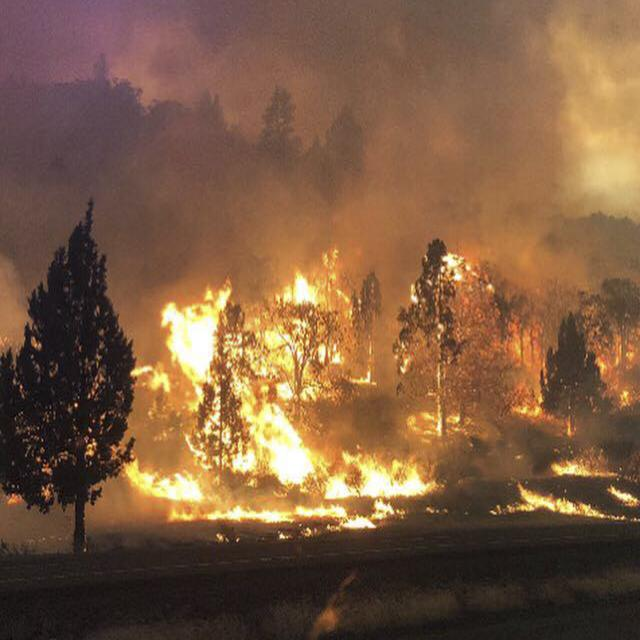Fire: (131, 252, 447, 553)
